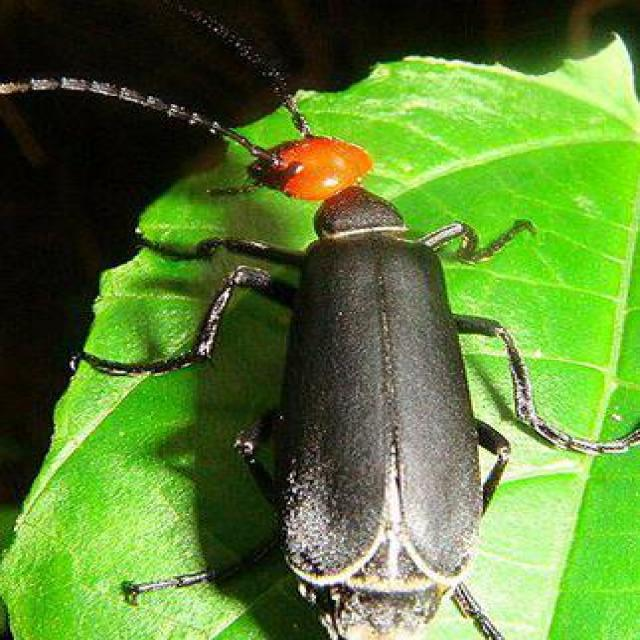BlisterBeetle-Adult-: (63, 23, 587, 637)
